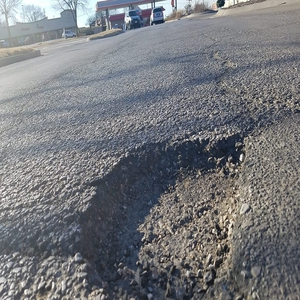pothole: (76, 136, 251, 300)
